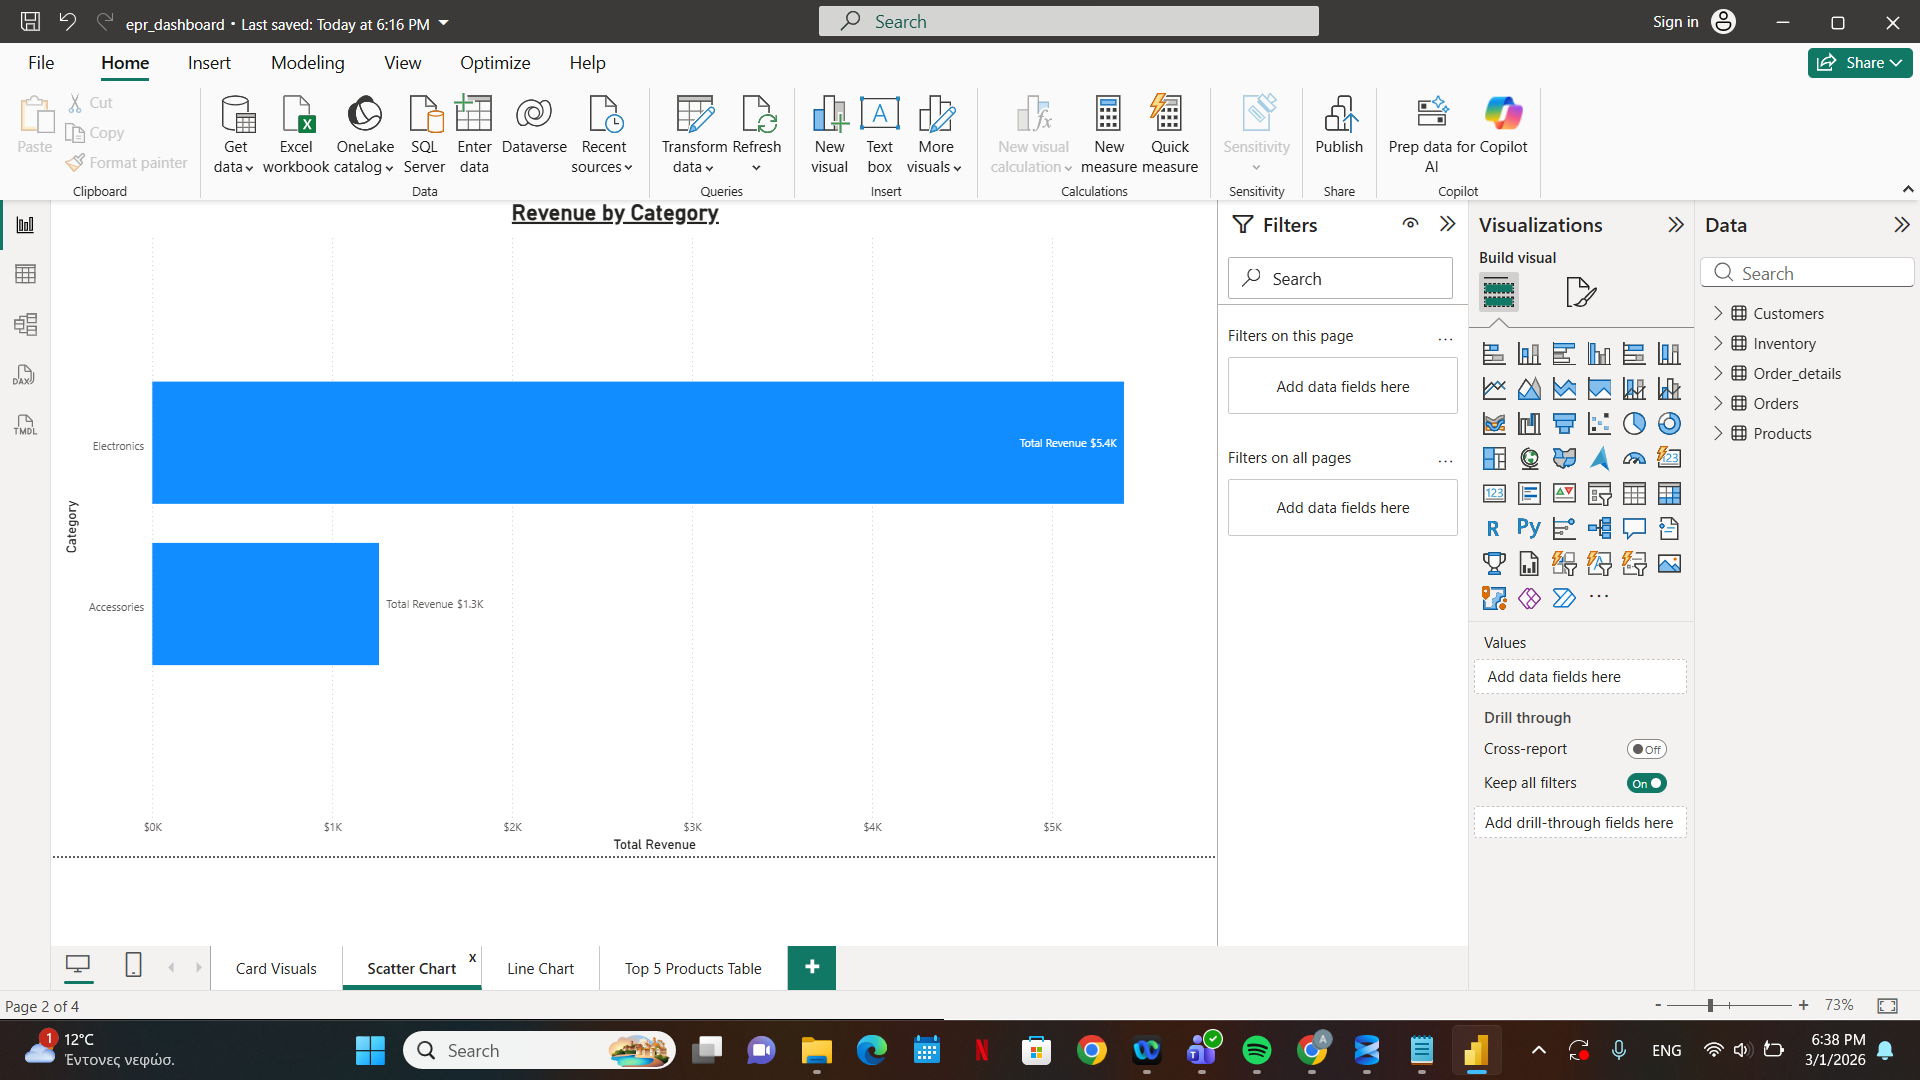

What the dashboard file says about the page in this screenshot:
{"tool":"powerbi","page":{"name":"Scatter Chart","canvas":[1280,720],"ordinal":1},"visuals":[{"type":"clusteredBarChart","title":"Revenue by Category","fields":{"Category":["Products.Category"],"Y":["Order_details.Total Revenue"]},"box":[9.6,0,1219.9,720.4],"z":0}]}

Visuals, with their boxes on the page's 1280x720 design canvas (x1, y1, x2, y2). These are canvas units, not pixel positions in the 1920x1080 screenshot, which may show the page scaled, cropped or inside an application window:
"Revenue by Category" clusteredBarChart: BBox(10, 0, 1230, 720)
